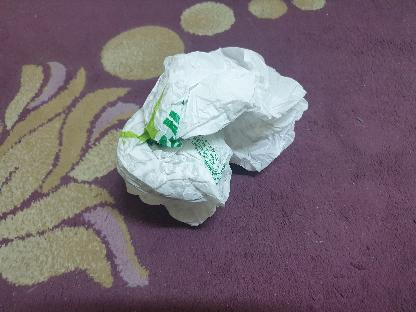Plastic Bag: (118, 48, 308, 226)
